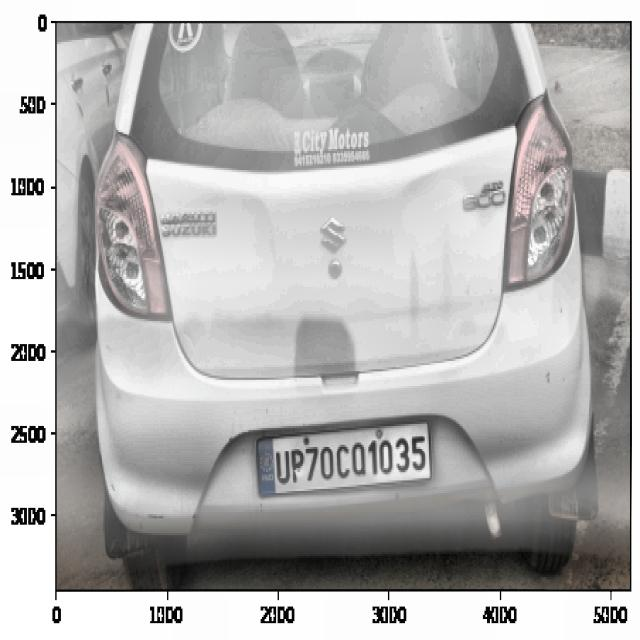license_plate: (269, 427, 433, 488)
